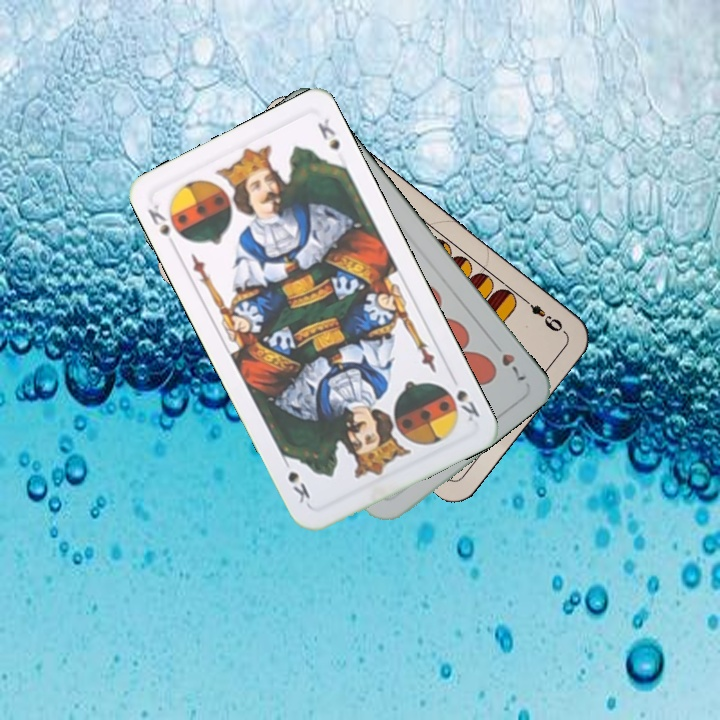E9: (518, 293, 566, 335)
H7: (487, 336, 529, 384)
SK: (143, 200, 187, 252), (446, 370, 483, 425)
